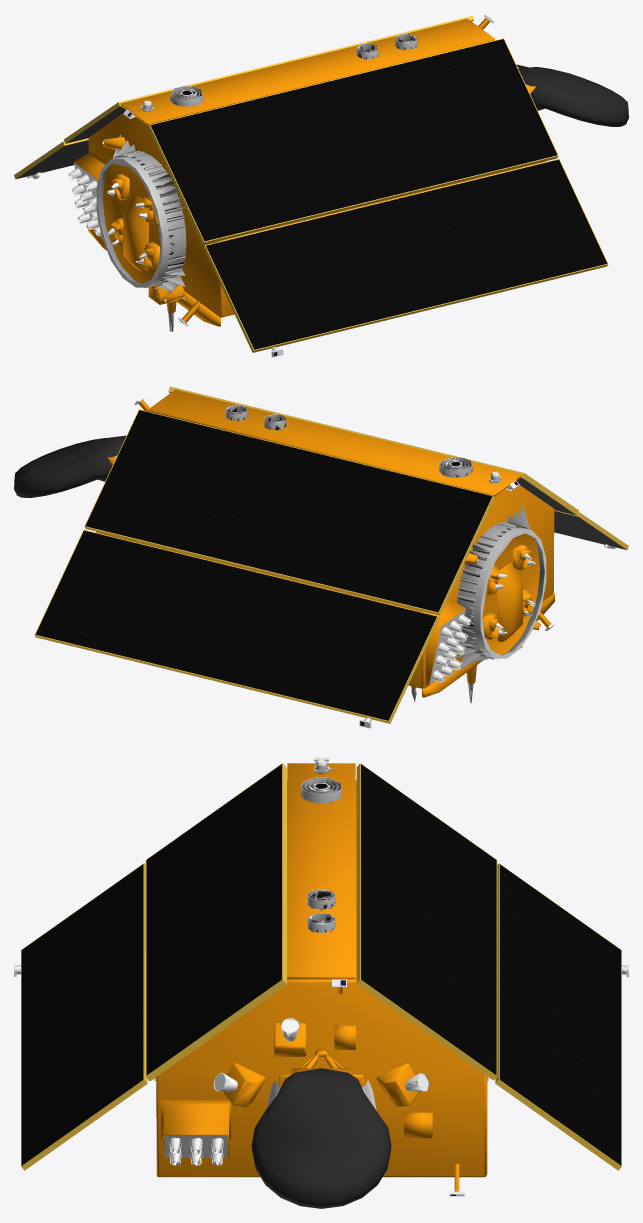
Rendered from satellite.glb.
3 views of the same model, one above another, from view 1: azimuth 30°, elevation 25°; view 2: azimuth 150°, elevation 25°; view 3: azimuth 270°, elevation 25° (orthographic). The views are drawn at different scales.
Visible parts, largest first — view 1: array, BUS, GNSS_POD_RO_SPA, AMR; view 2: array, BUS, GNSS_POD_RO_SPA, AMR; view 3: array, BUS, AMR, GNSS_POD_RO_SPA.
Boxes of the visible parts, x1=… form: array: x1=14, y1=15, x2=608, y2=352; BUS: x1=16, y1=14, x2=546, y2=357; GNSS_POD_RO_SPA: x1=96, y1=33, x2=417, y2=300; AMR: x1=516, y1=64, x2=628, y2=126; array: x1=34, y1=386, x2=628, y2=723; BUS: x1=96, y1=389, x2=626, y2=728; GNSS_POD_RO_SPA: x1=225, y1=404, x2=546, y2=671; AMR: x1=14, y1=435, x2=126, y2=497; array: x1=21, y1=763, x2=621, y2=1170; BUS: x1=14, y1=757, x2=628, y2=1196; AMR: x1=251, y1=1068, x2=391, y2=1208; GNSS_POD_RO_SPA: x1=300, y1=759, x2=341, y2=932.
Size of the model in its own units: 5.12 by 2.32 by 4.37.
10 materials, 5 textured.
